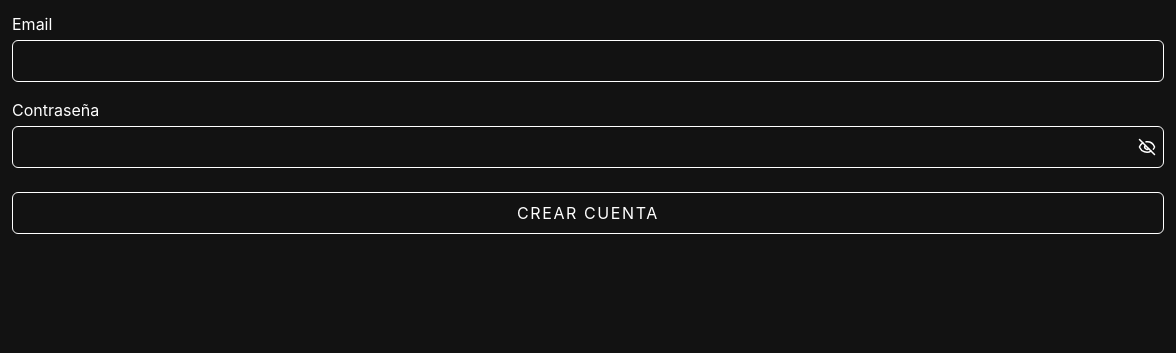
RegisterForm › hides the confirm password field until the password field is focused
Focus the password field with id "register-password". click: (588, 147)
box: [12,126,1164,168]
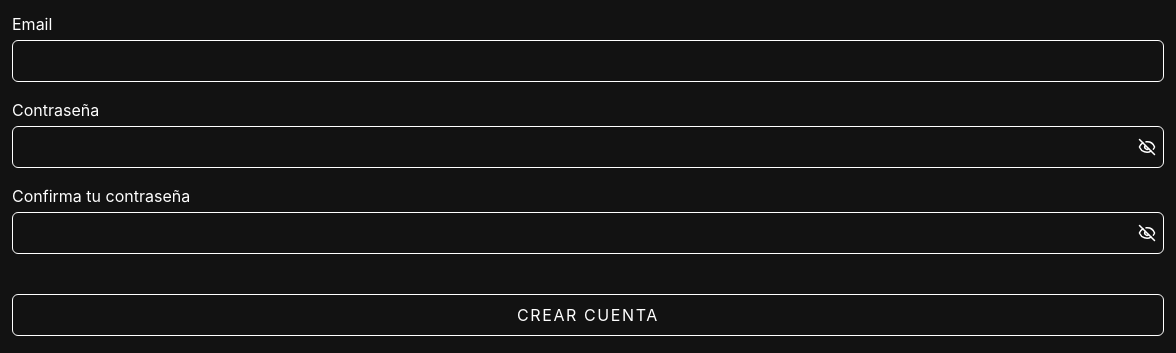
Now the password field with id "register-confirm-password" is shown, box [12,212,1164,254]
